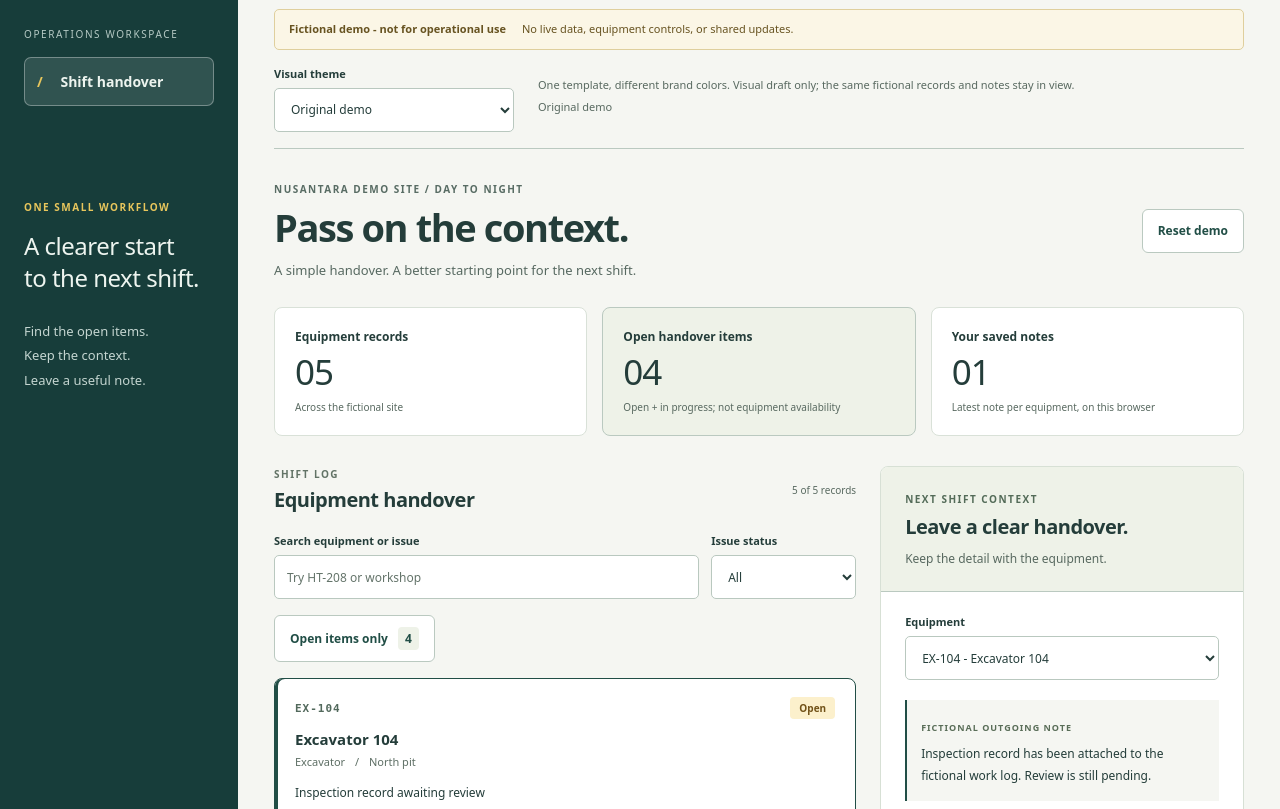
Test: storage and reset › resets only demo notes and restores seed UI after confirmation
Click the button "Open items only 4": (354, 639) [274,615,435,662]
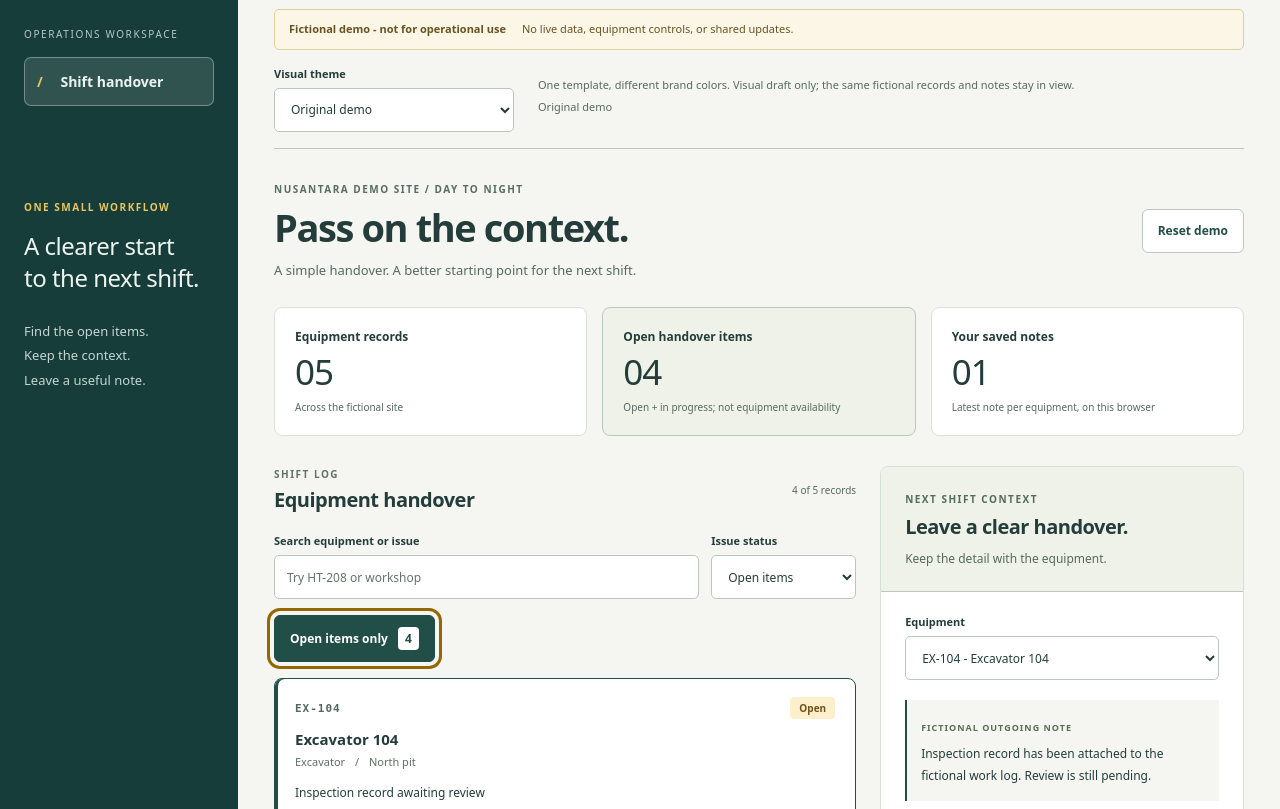
In the search field labelled "Search equipment or issue": (487, 577) [274,555,699,599], type "HT"
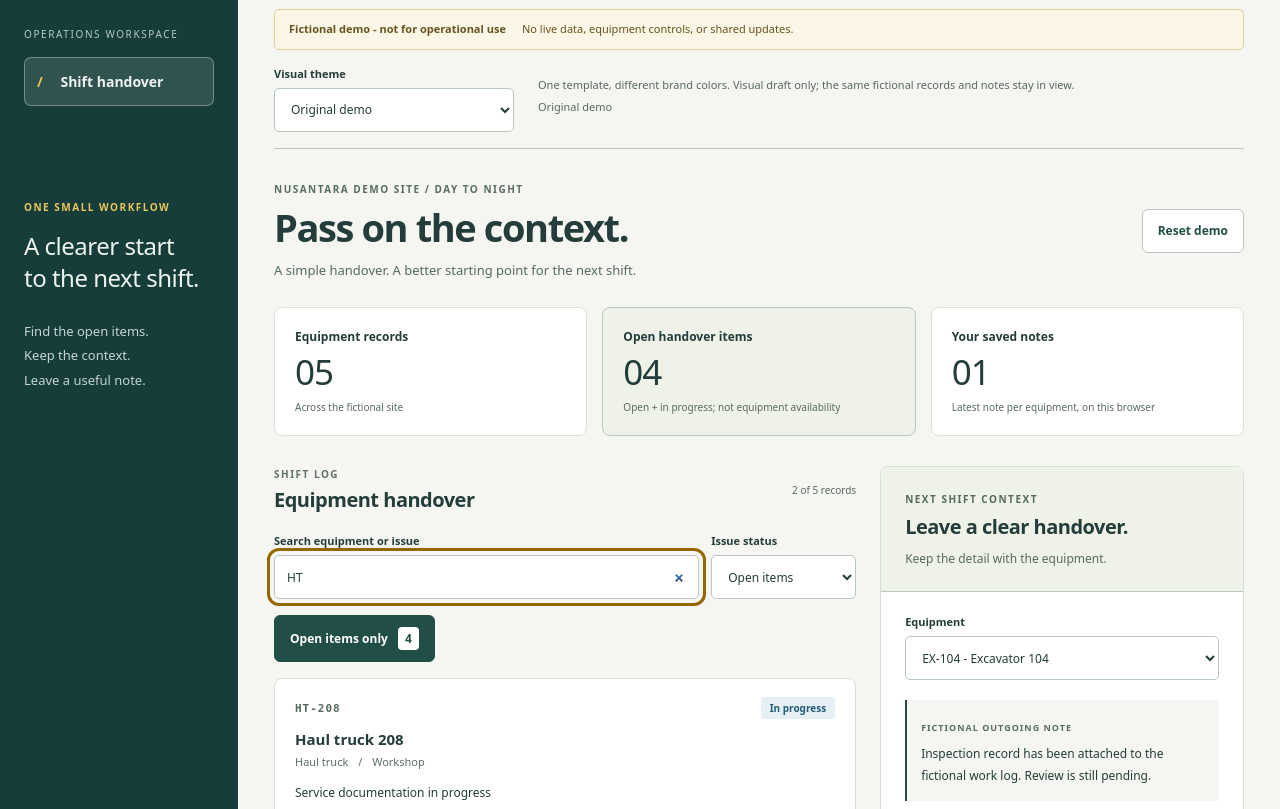
Select "HT-208 - Haul truck 208" in the dropdown labelled "Equipment": (1062, 658) [905,636,1219,680]
(page scrolled)
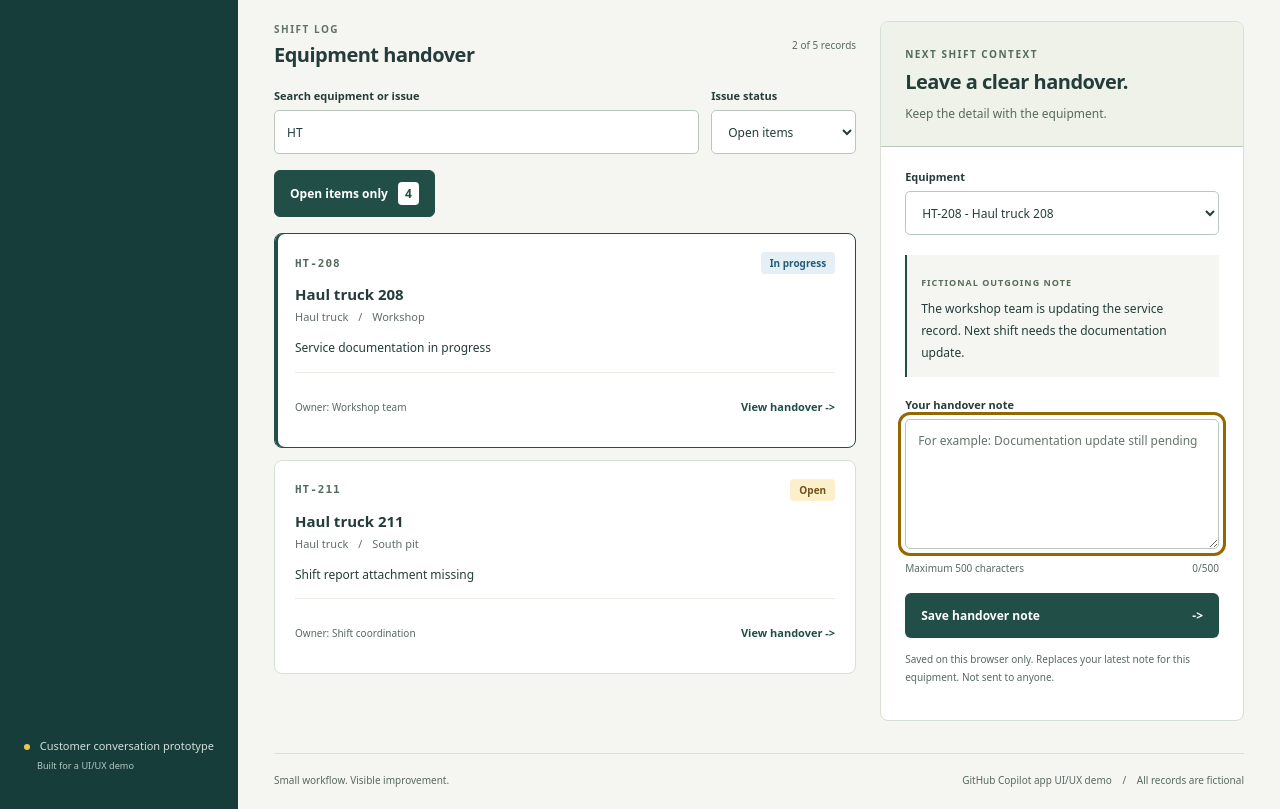
In the text box labelled "Your handover note": (1062, 484) [905,419,1219,549], type "Draft"
(page scrolled)
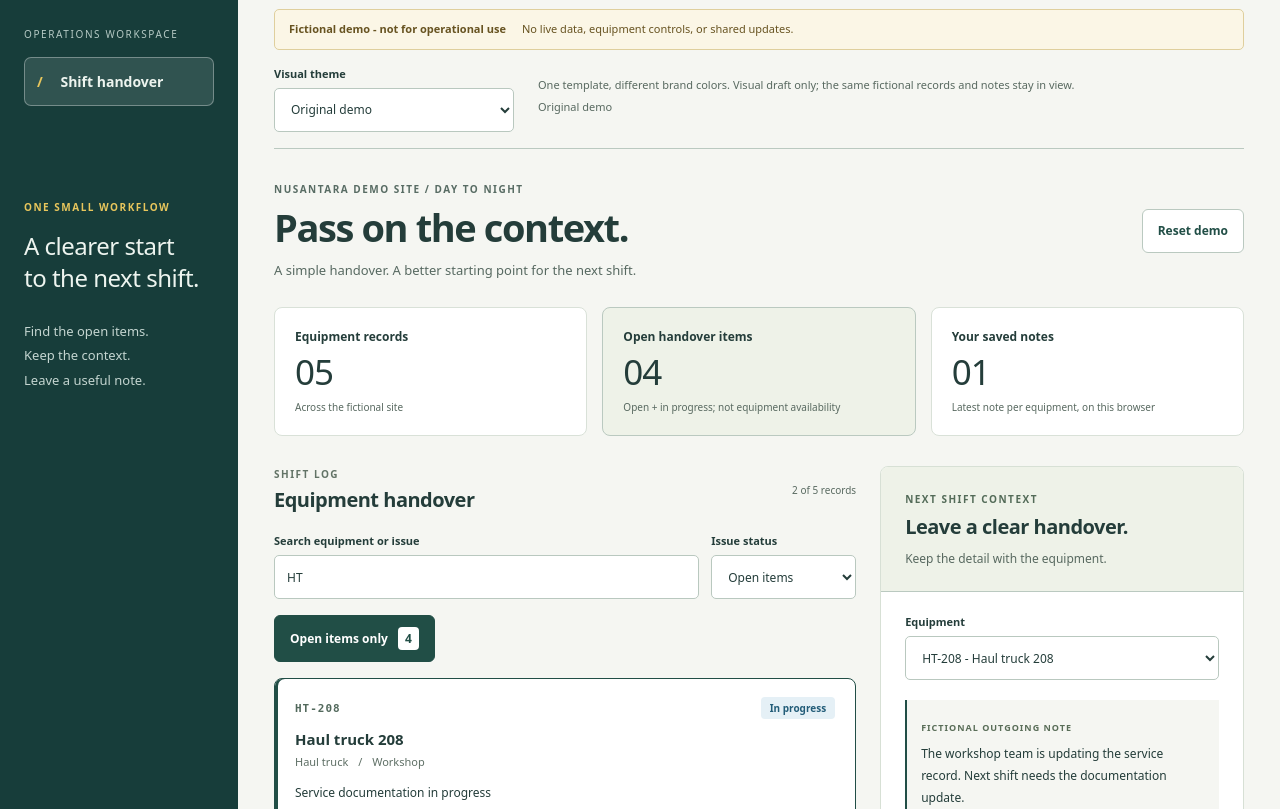
Click the button "Reset demo": (1193, 231) [1142,209,1244,253]
(page scrolled)
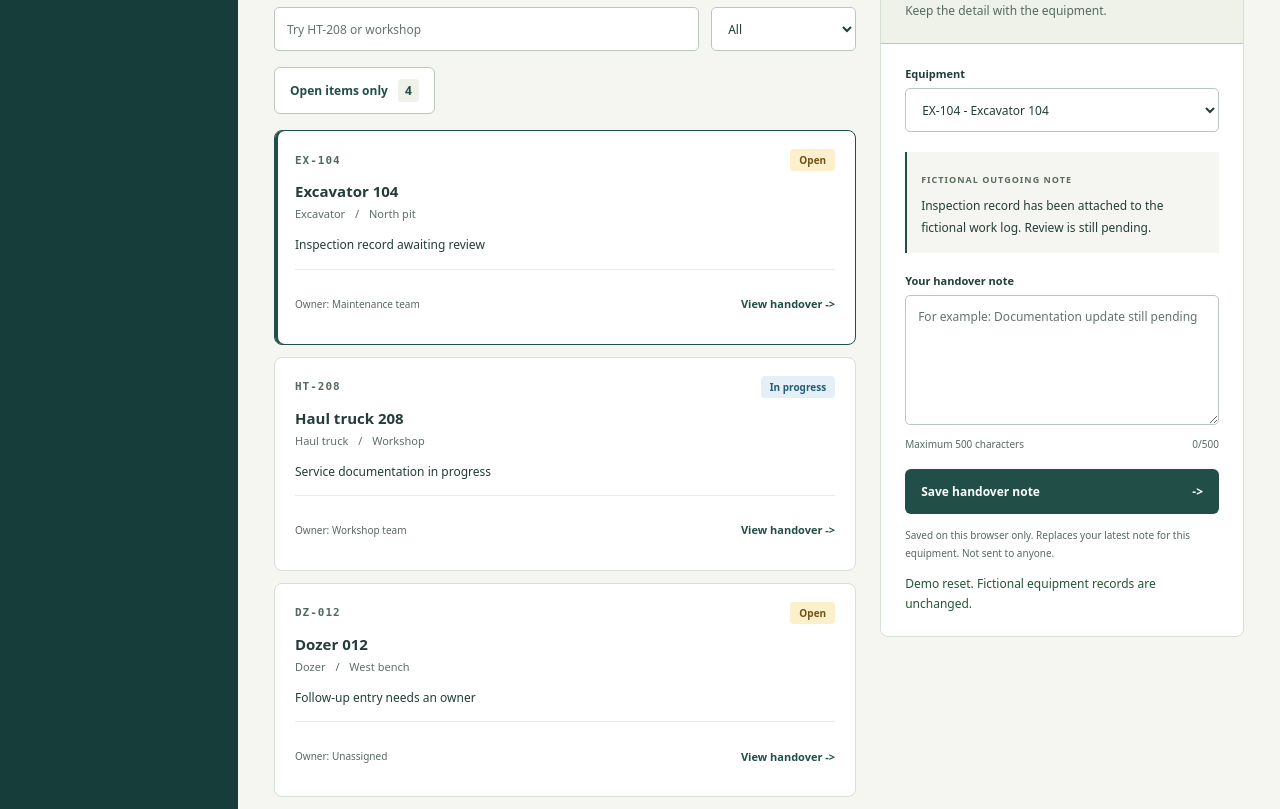
Now the dropdown labelled "Issue status" shows "All", box [711,7,856,51]
Now the search field labelled "Search equipment or issue" is empty, box [274,7,699,51]
Now the text box labelled "Your handover note" is empty, box [905,295,1219,425]
